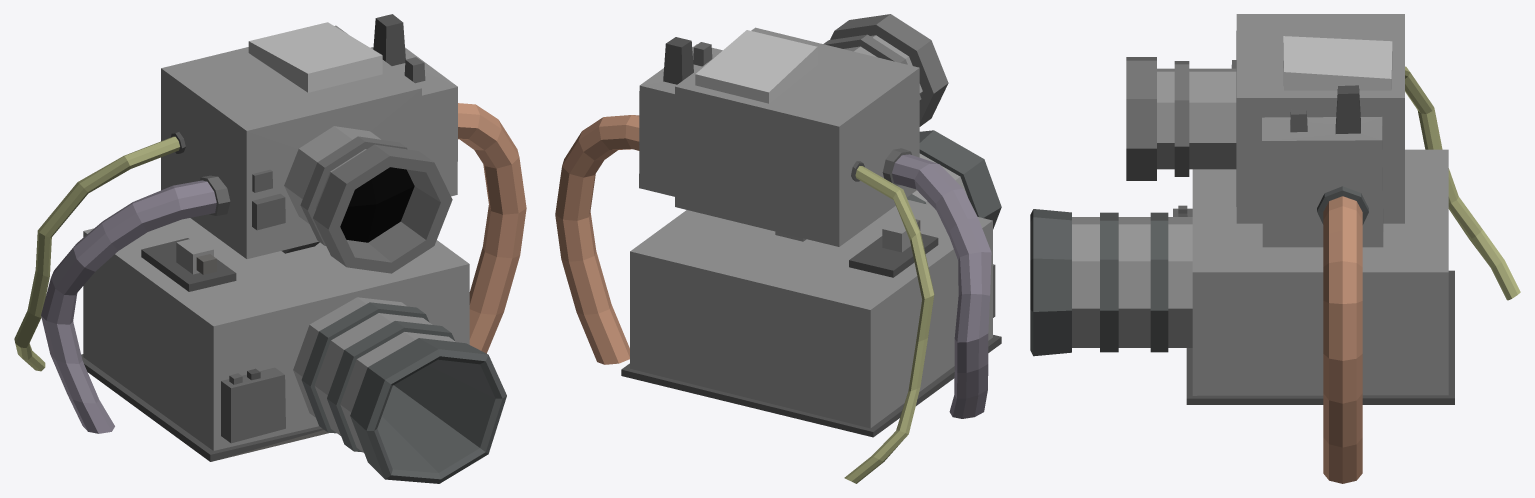
Rendered from turret1.fbx.
3 views of the same model, side by side, from view 1: azimuth 30°, elevation 25°; view 2: azimuth 150°, elevation 25°; view 3: azimuth 270°, elevation 25° (orthographic). The views are drawn at different scales.
Parts seen in each view (by area): view 1: pCube1; view 2: pCube1; view 3: pCube1.
Boxes of the visible parts, box(x1,y1,x2,y2) form: pCube1: box(14, 14, 526, 483); pCube1: box(555, 14, 1001, 483); pCube1: box(1030, 14, 1520, 483).
Size of the model in its own units: 384 by 281 by 354.
